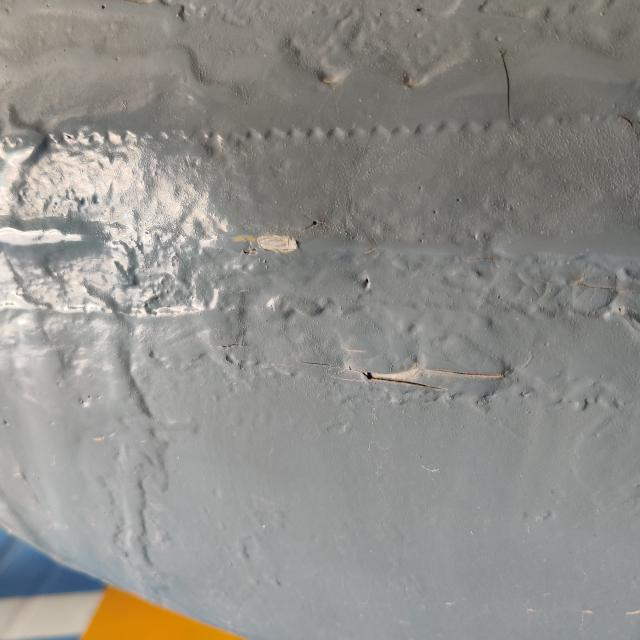crack: (296, 338, 515, 405)
